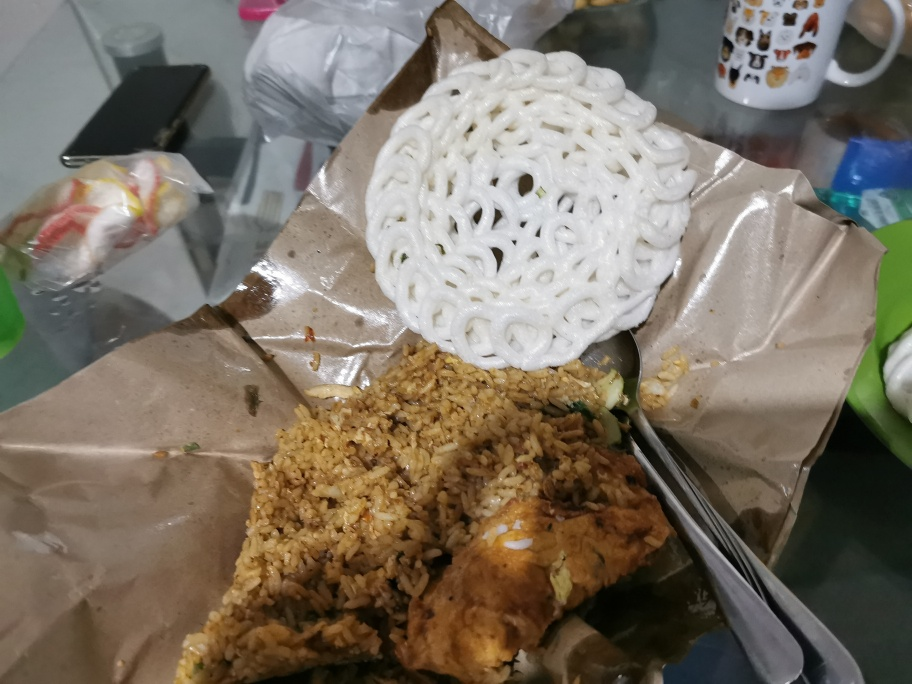kerupuk: (360, 48, 692, 359)
nasi goreng: (181, 360, 662, 684)
